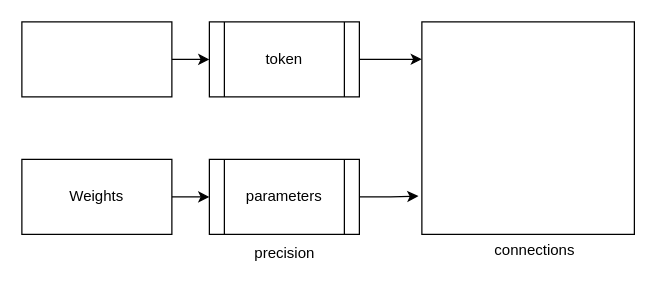
Image size: 656x294. Some labels were removed from this diagram. Each missing label, with the box of its shape:
DataSets: (21, 21, 172, 97)
model: (421, 21, 634, 234)
